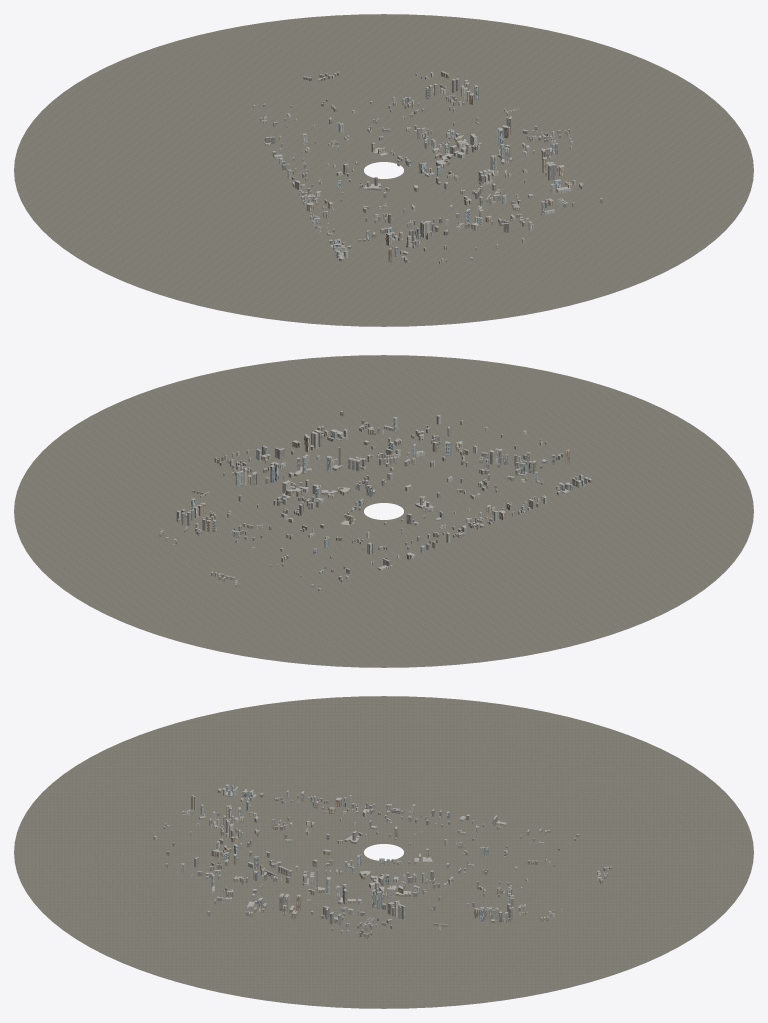
The model's file is far.glb.
3 views of the same model, one above another, from view 1: azimuth 30°, elevation 25°; view 2: azimuth 150°, elevation 25°; view 3: azimuth 270°, elevation 25° (orthographic).
Visible parts, largest first — view 1: far_ground, far_roof, far_band, far_plaster, far_stone, far_glass; view 2: far_ground, far_roof, far_band, far_plaster, far_stone, far_glass; view 3: far_ground, far_roof, far_plaster, far_band, far_stone, far_glass.
Boxes of the visible parts, x1=… form: far_ground: x1=14, y1=14, x2=753, y2=326; far_roof: x1=253, y1=71, x2=602, y2=261; far_band: x1=260, y1=72, x2=602, y2=263; far_plaster: x1=263, y1=72, x2=575, y2=261; far_stone: x1=253, y1=72, x2=582, y2=263; far_glass: x1=279, y1=86, x2=560, y2=258; far_ground: x1=14, y1=355, x2=753, y2=667; far_roof: x1=160, y1=411, x2=591, y2=588; far_band: x1=175, y1=411, x2=580, y2=587; far_plaster: x1=165, y1=416, x2=583, y2=584; far_stone: x1=159, y1=421, x2=591, y2=590; far_glass: x1=191, y1=418, x2=587, y2=554; far_ground: x1=14, y1=696, x2=753, y2=1008; far_roof: x1=154, y1=784, x2=611, y2=934; far_plaster: x1=153, y1=787, x2=609, y2=936; far_band: x1=163, y1=794, x2=612, y2=937; far_stone: x1=164, y1=789, x2=608, y2=938; far_glass: x1=200, y1=785, x2=510, y2=925.
Size of the model in its own units: 8000 by 300 by 8000.
6 materials, 6 textured.
